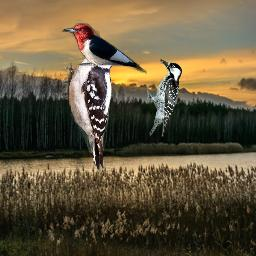Woodpecker: (62, 35, 117, 174), (61, 23, 147, 75), (147, 58, 182, 137)
